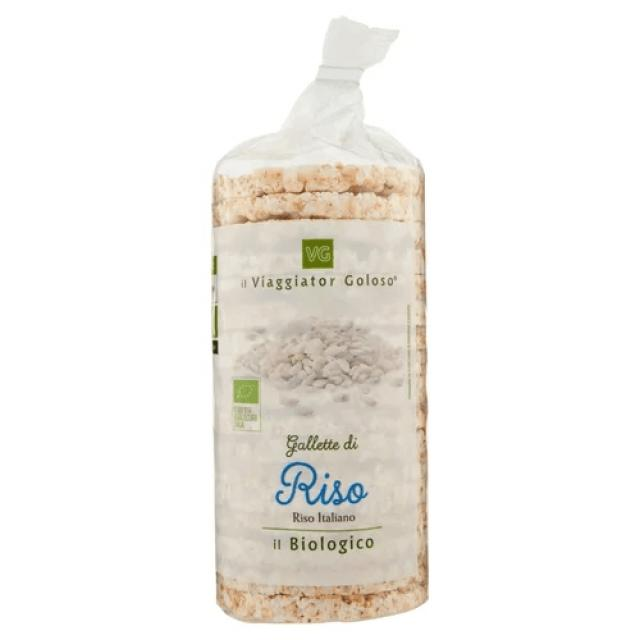Bread loaf: (207, 15, 431, 626)
